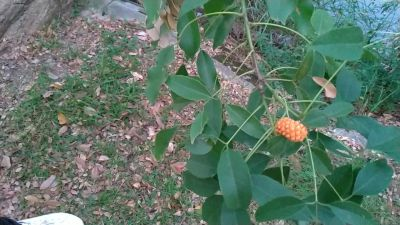eggs: (277, 116, 306, 140)
